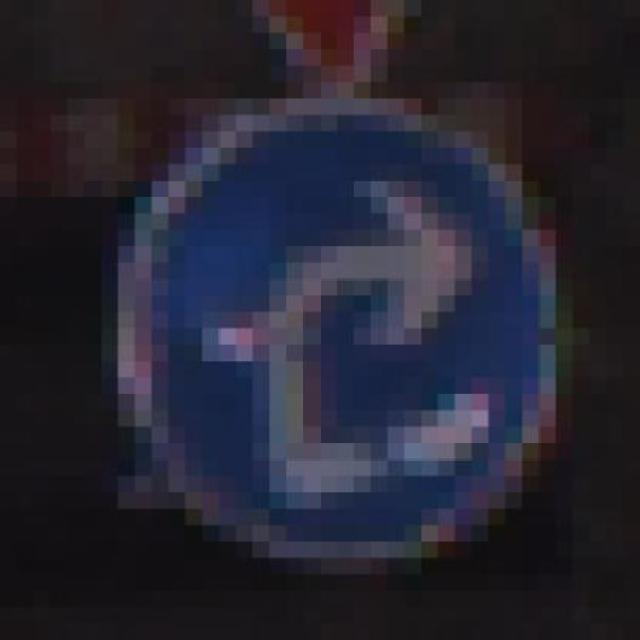Turn right ahead: (84, 98, 590, 591)
